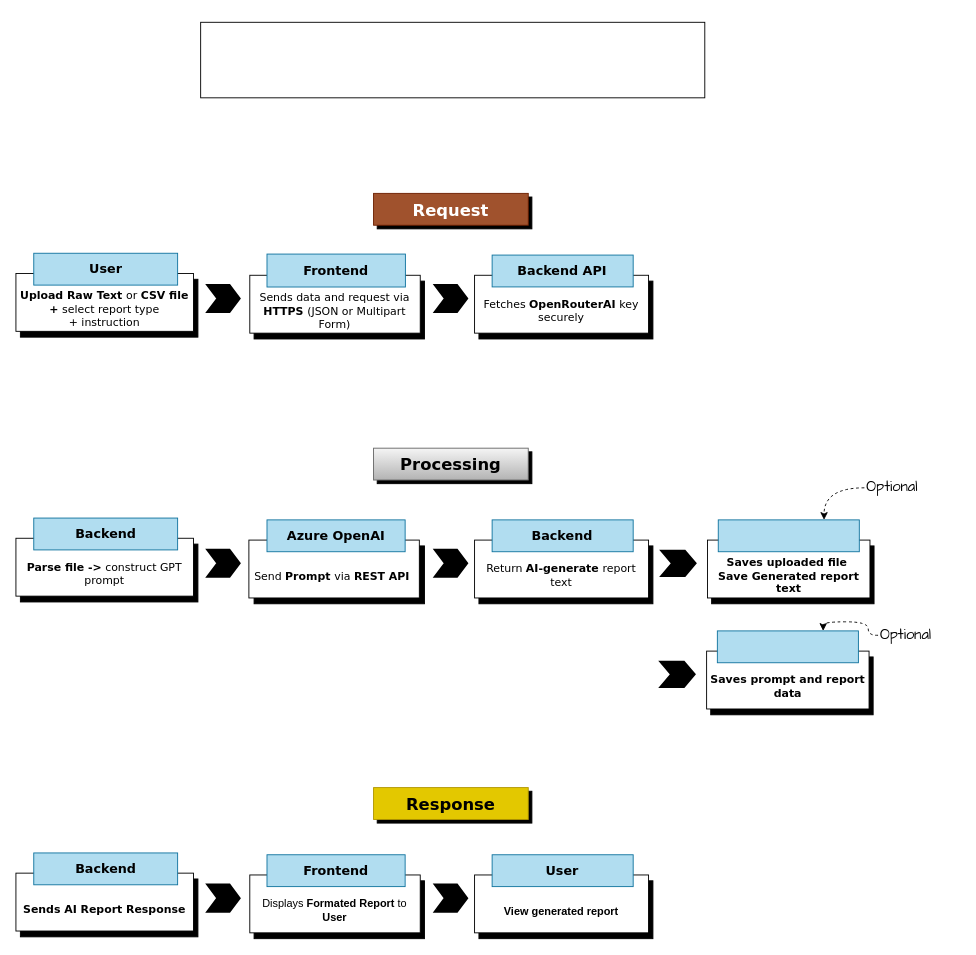
This 976x955 diagram has some shape labels left out. Each missing label, with the centre of its shape:
AWS S3 Bucket: pixel 788 535
Azure SQL / CosmosDB: pixel 787 646
DATA FLOW: pixel 452 59
